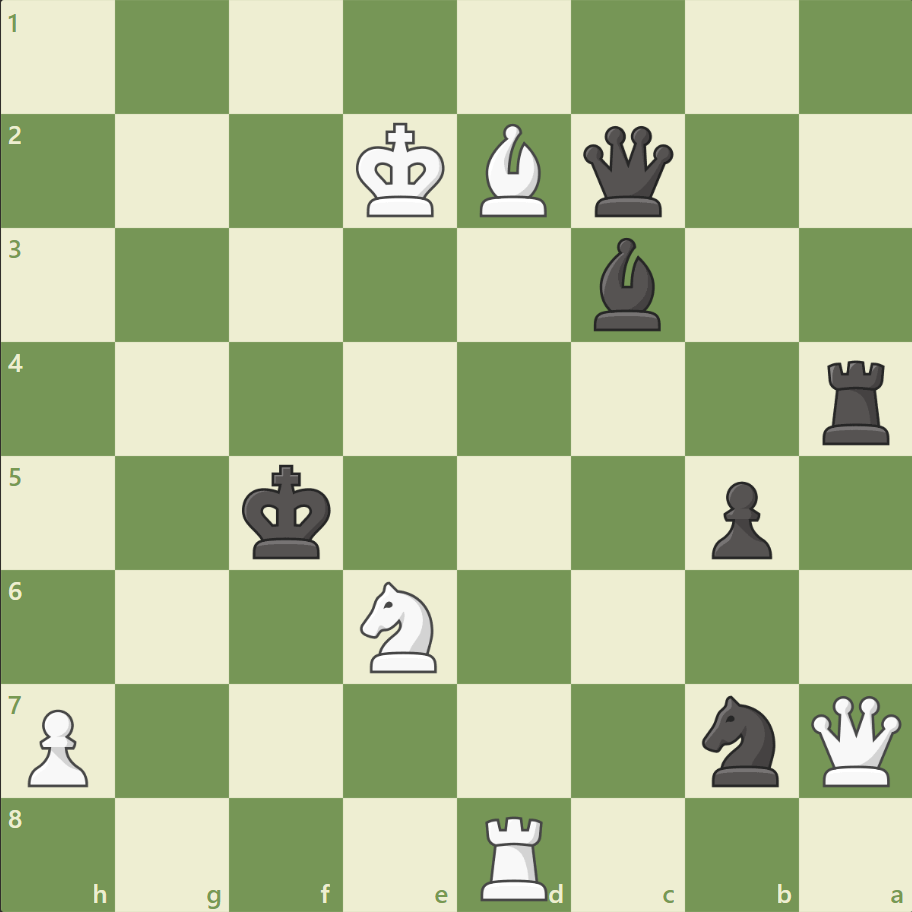B: (479, 125, 557, 229)
K: (355, 126, 453, 228)
N: (360, 581, 449, 682)
P: (28, 703, 100, 787)
Q: (808, 694, 909, 795)
R: (479, 808, 557, 908)
b: (592, 239, 670, 342)
k: (242, 467, 340, 568)
n: (700, 694, 789, 795)
p: (709, 476, 781, 560)
q: (581, 126, 682, 228)
r: (819, 354, 897, 454)
